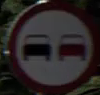No overtake: (6, 7, 92, 79)
